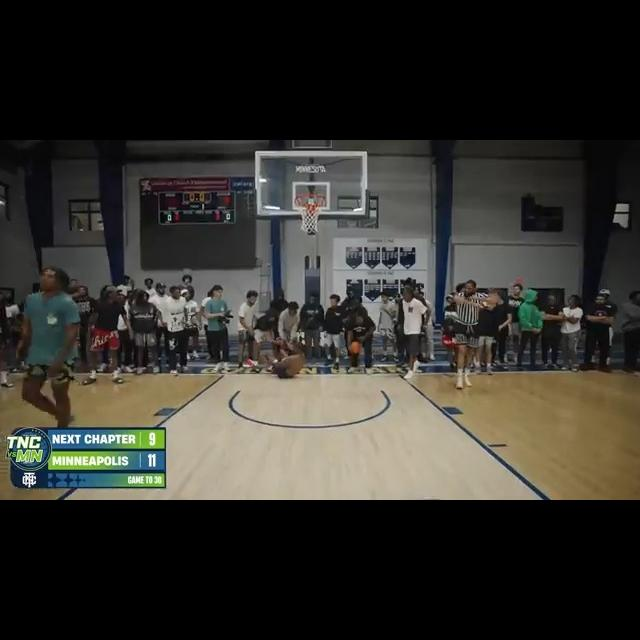basketball: (348, 342, 362, 354)
hoop: (296, 193, 324, 234)
